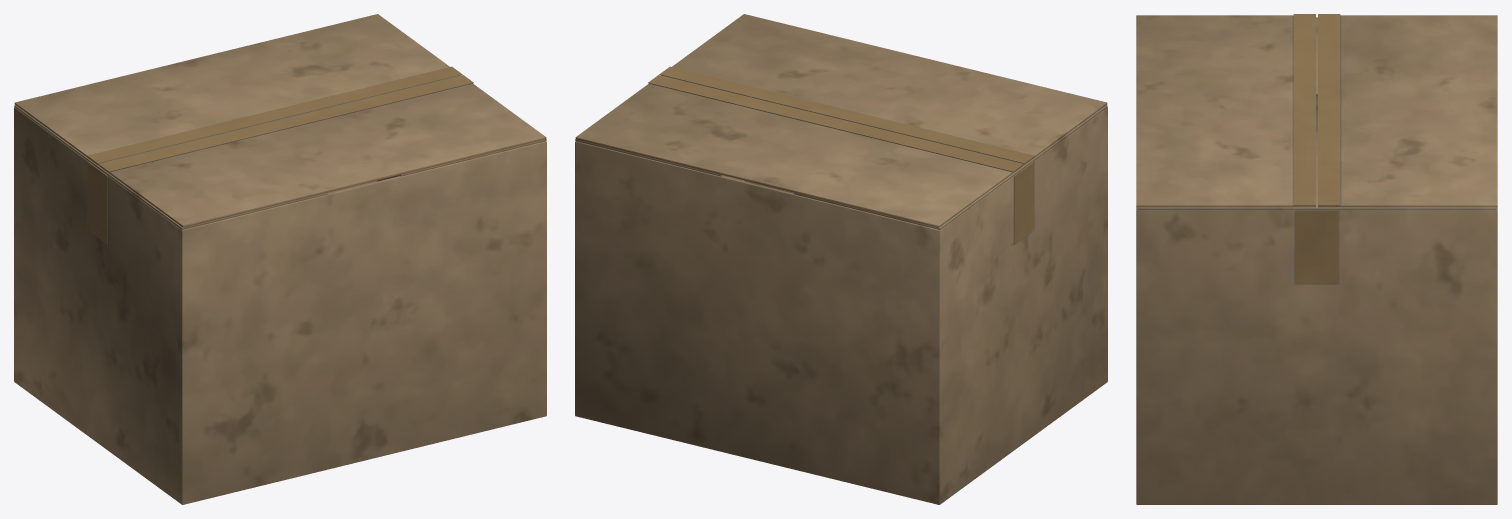
The model's file is caixa_papelao.glb.
3 renders of one model, left to right at view 1: azimuth 30°, elevation 25°; view 2: azimuth 150°, elevation 25°; view 3: azimuth 270°, elevation 25°, orthographic. The views are drawn at different scales.
Parts seen in each view (by area): view 1: caixa, aba_frente, aba_tras, aba_esq; view 2: caixa, aba_tras, aba_frente, aba_esq; view 3: caixa, aba_frente, aba_tras, aba_dir.
Part boxes in pixels (bbox=[...]): caixa: bbox=[14, 107, 546, 504]; aba_frente: bbox=[98, 75, 546, 227]; aba_tras: bbox=[14, 14, 462, 165]; aba_esq: bbox=[14, 105, 327, 229]; caixa: bbox=[575, 107, 1107, 504]; aba_tras: bbox=[575, 75, 1023, 227]; aba_frente: bbox=[659, 14, 1107, 165]; aba_esq: bbox=[794, 105, 1107, 229]; caixa: bbox=[1136, 95, 1497, 504]; aba_frente: bbox=[1136, 14, 1315, 207]; aba_tras: bbox=[1318, 14, 1497, 207]; aba_dir: bbox=[1137, 132, 1496, 210].
Bounding box in the file's own units: 0.5016 × 0.3668 × 0.4.
1 material, 1 textured.
